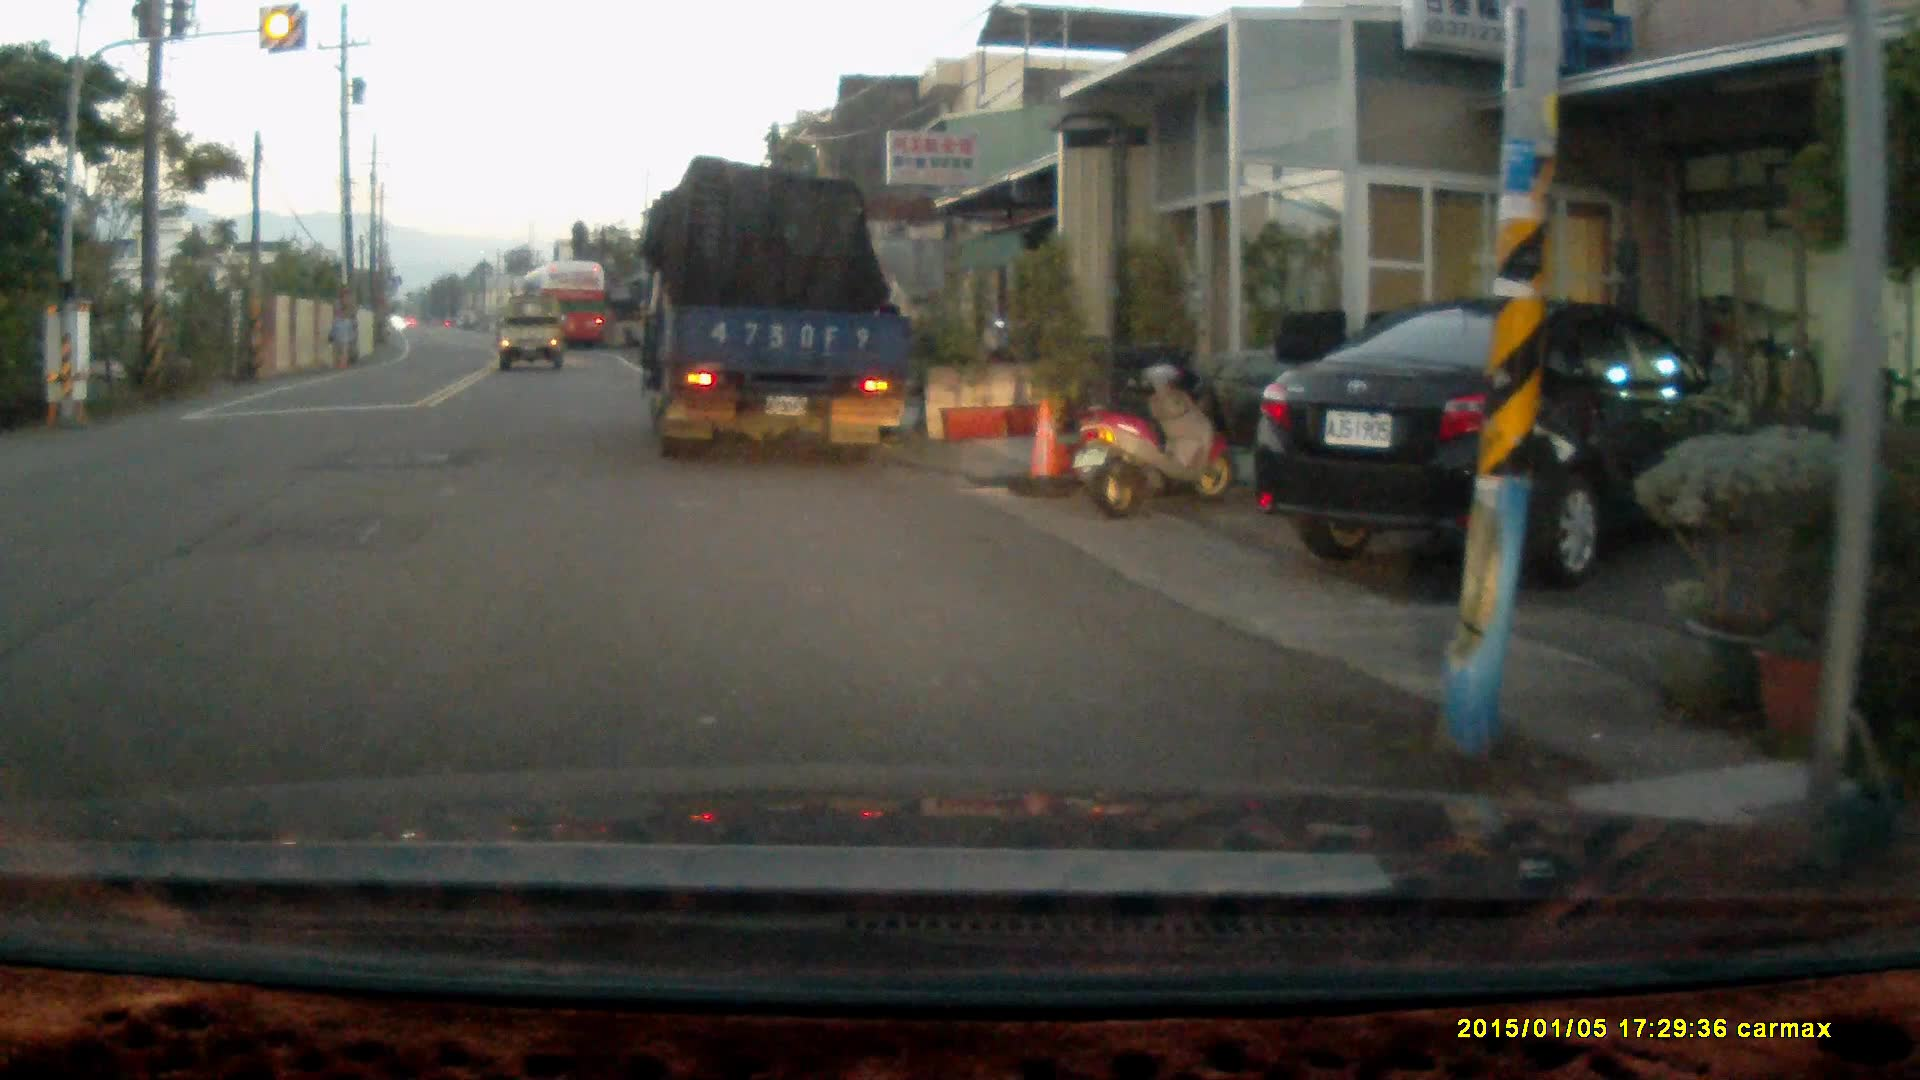pedestrian: (329, 303, 359, 370)
vehicle: (1244, 287, 1760, 586), (642, 161, 927, 455), (522, 261, 615, 357), (499, 297, 570, 372)
